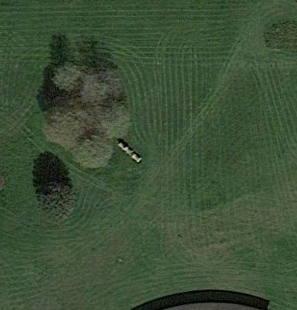tree: (45, 58, 130, 170), (33, 170, 81, 223)
